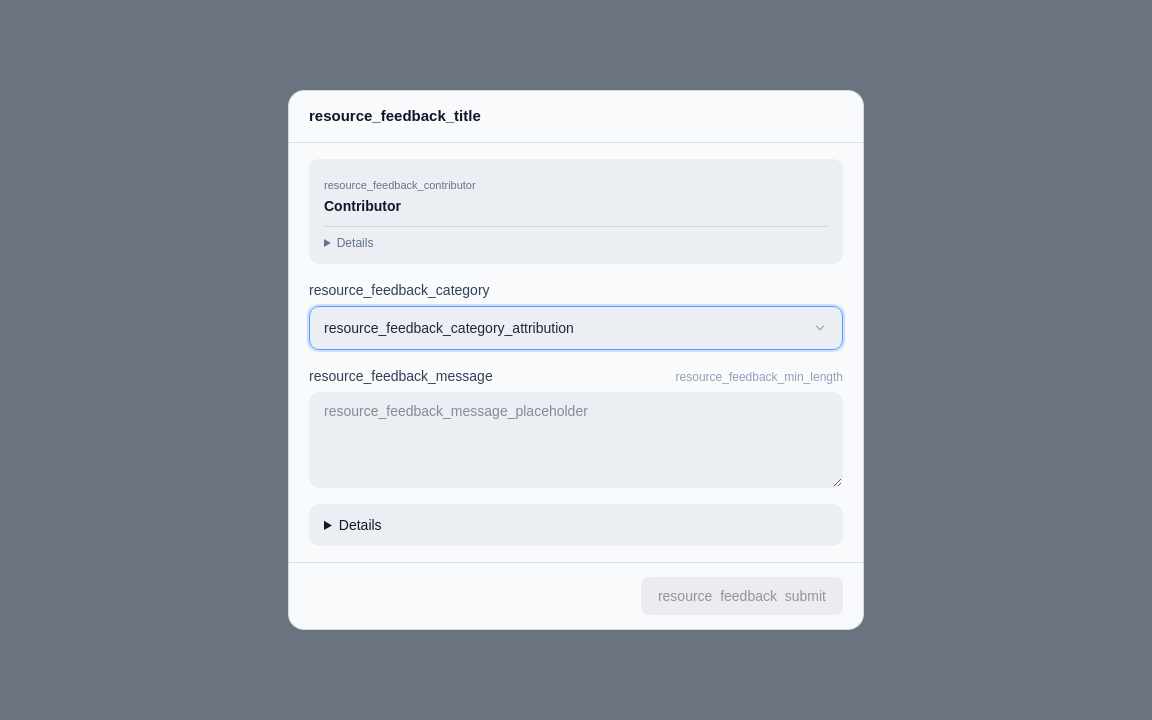
submits the exact revision and account and retains the request ID for a network retry
Expected: the text "Contributor" is shown, [324,198,401,214]
Type "Please check the original source." into the text box labelled "resource_feedback_message" at (576, 440), box [309,392,843,488]
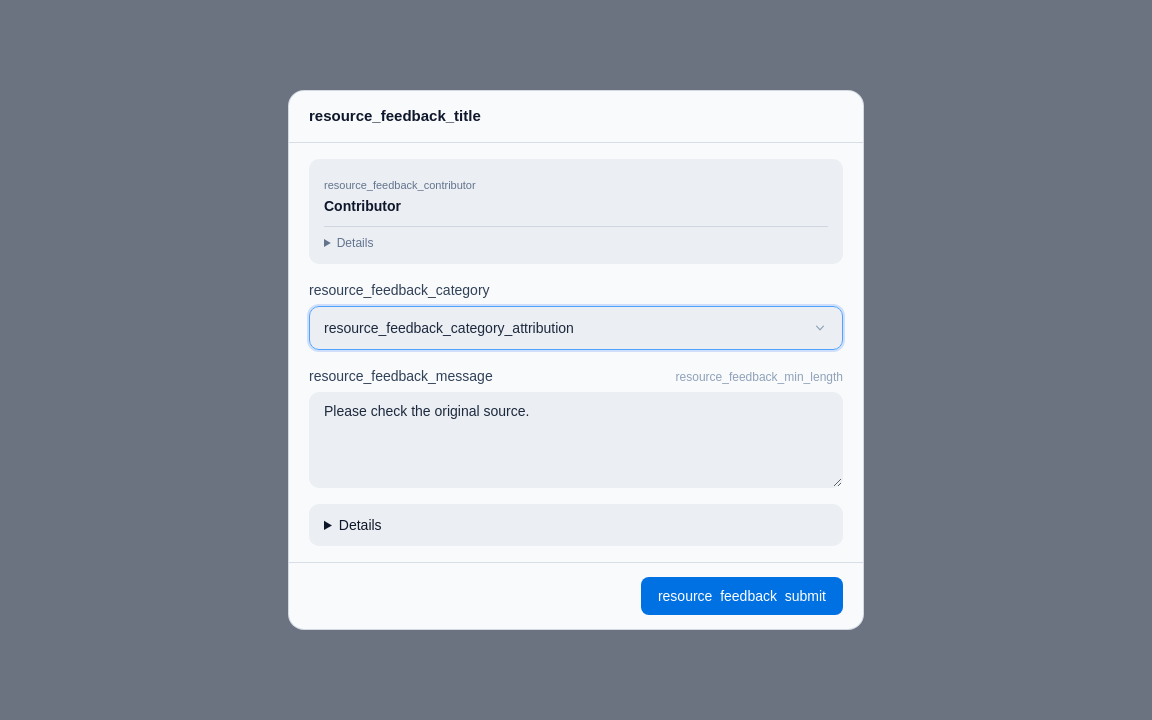
Click the button "resource_feedback_submit" at (742, 596), box [641,577,843,615]
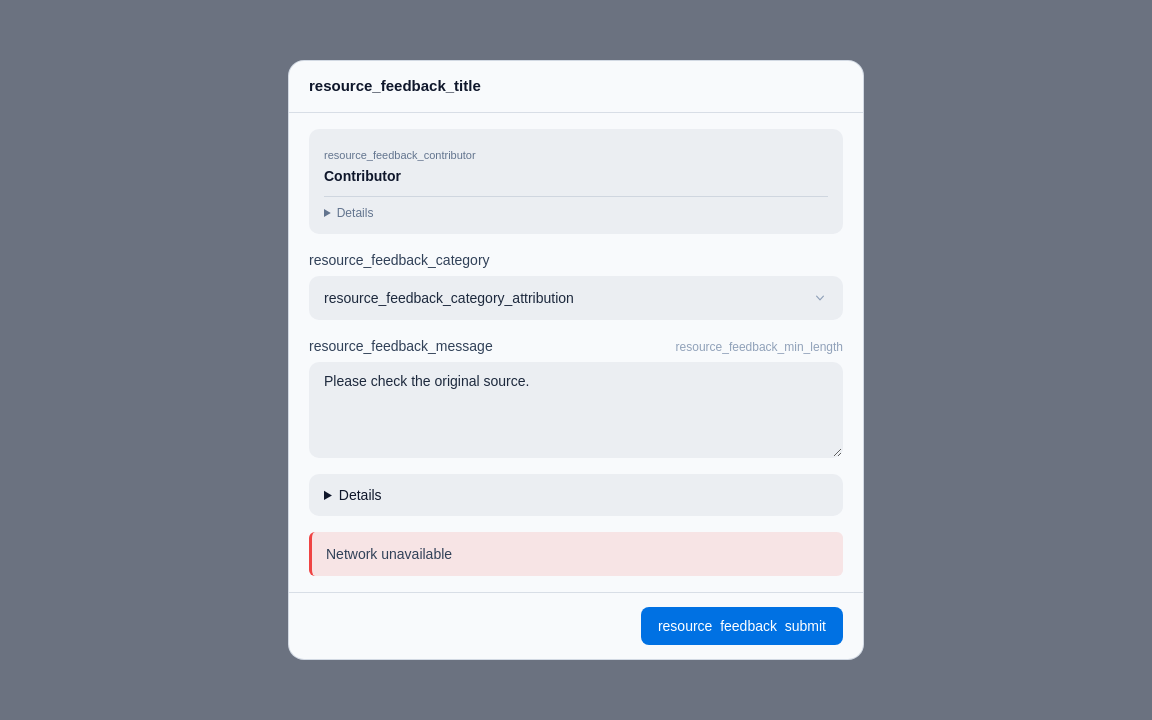
Expected: the button "resource_feedback_submit" is enabled
Click the button "resource_feedback_submit" at (742, 626), box [641,607,843,645]
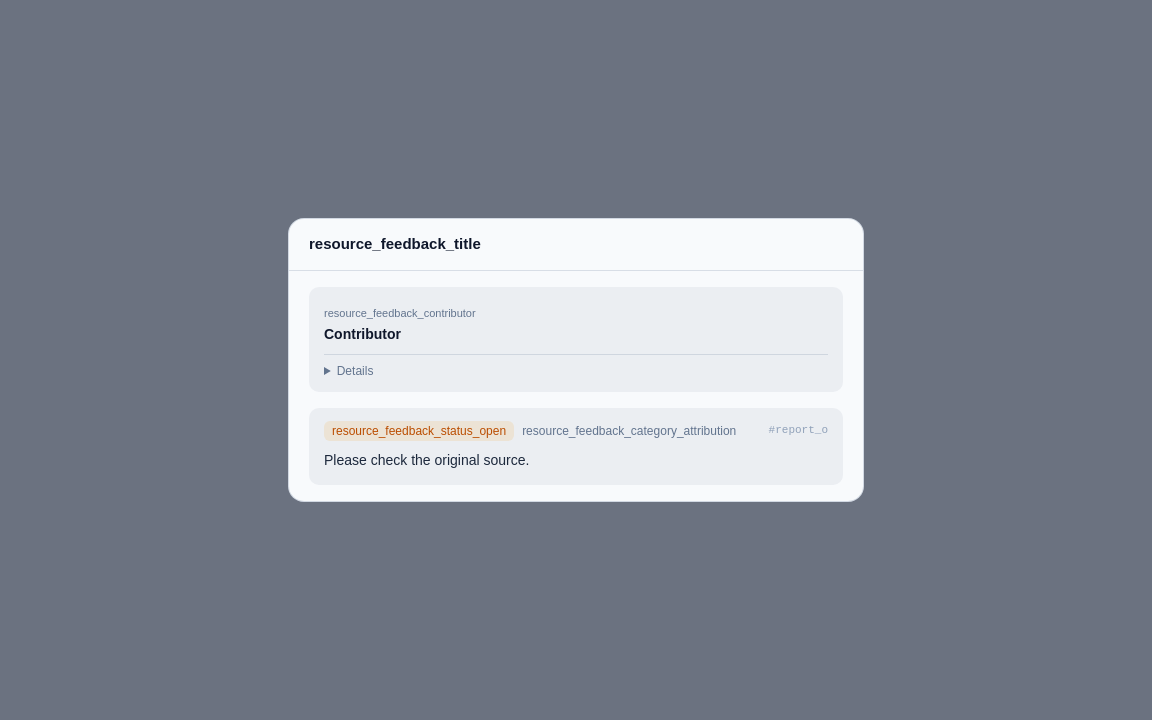
Expected: the text "resource_feedback_status_open" is shown, [324,421,514,441]
Expected: the button "resource_feedback_submit" is gone
